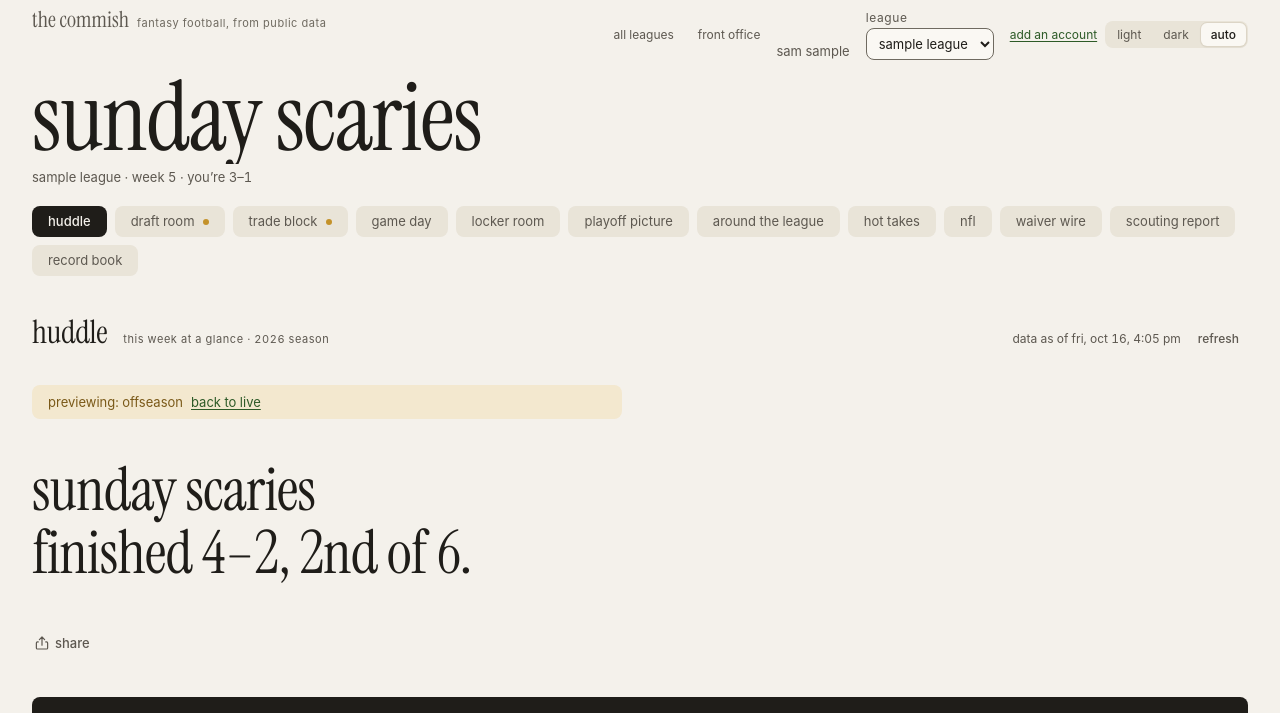
Test: huddle: preview override › shows the preview note, and “back to live” returns to the real phase
Expected: the text "previewing: offseason" is shown, [48,393,183,411]
What coordinates should you click on to do the following:
click the link "back to live"
I would click on:
 (226, 402)
Its box is [191,393,261,411].
(page scrolled)
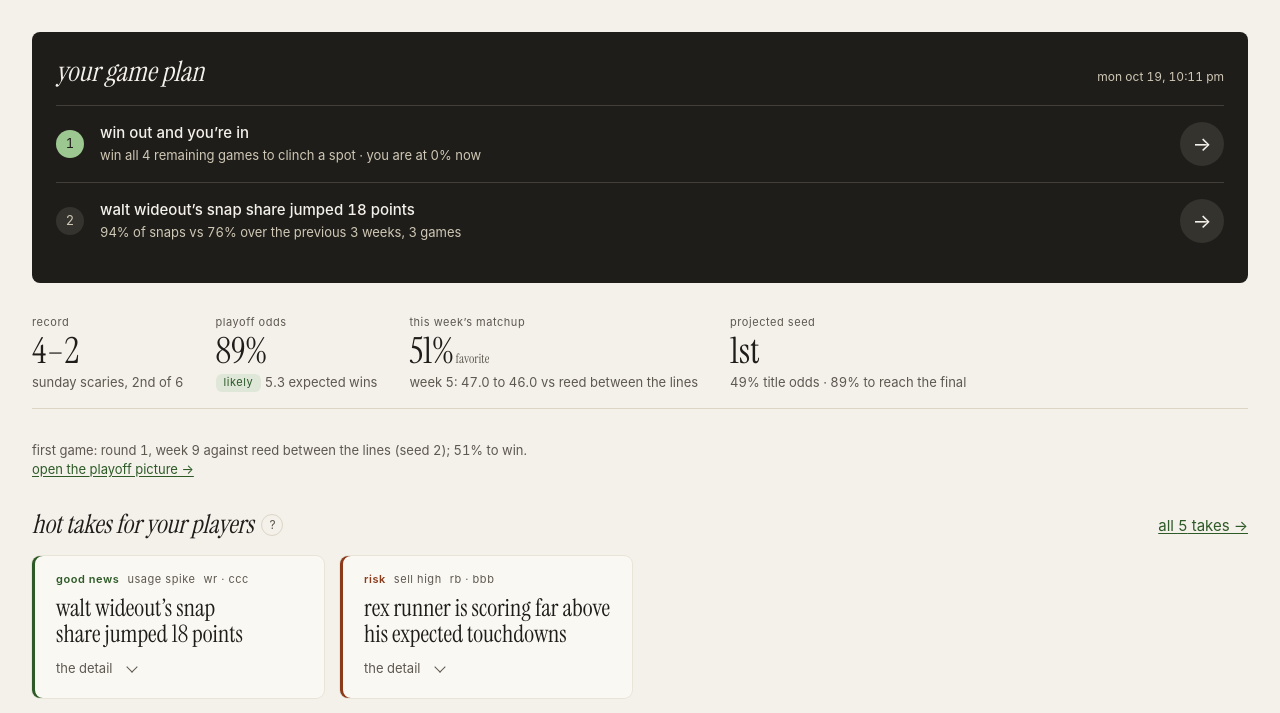
Expected: the element named "your season" is shown, [32,314,1248,409]
Expected: the text "previewing" is gone
